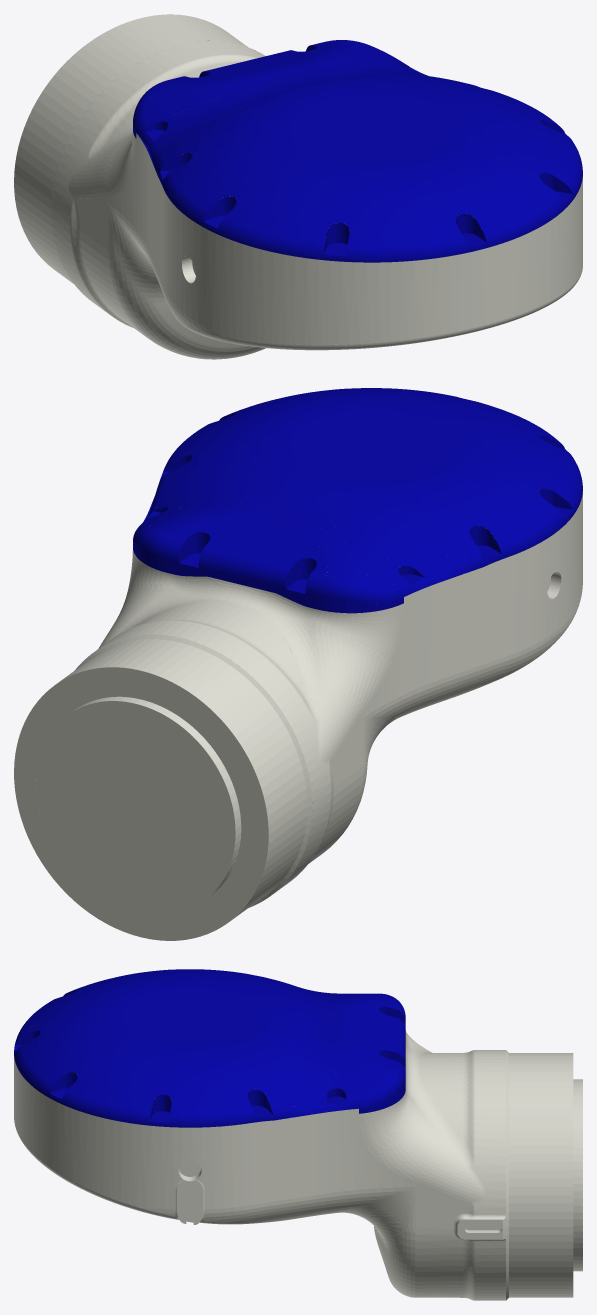
The picture shows the model from 3 angles, top to bottom: view 1: azimuth 30°, elevation 25°; view 2: azimuth 150°, elevation 25°; view 3: azimuth 270°, elevation 25°; orthographic projection. The views are drawn at different scales.
Visible parts, largest first — view 1: Base, Cover; view 2: Base, Cover; view 3: Base, Cover.
Part boxes in pixels (x1,y1,x2,y2): Base: (14,14,582,359); Cover: (133,40,582,262); Base: (14,492,582,940); Cover: (133,388,582,613); Base: (14,1030,582,1300); Cover: (14,969,405,1127).
Bounding box in the file's own units: 0.24 × 0.3879 × 0.2055.
